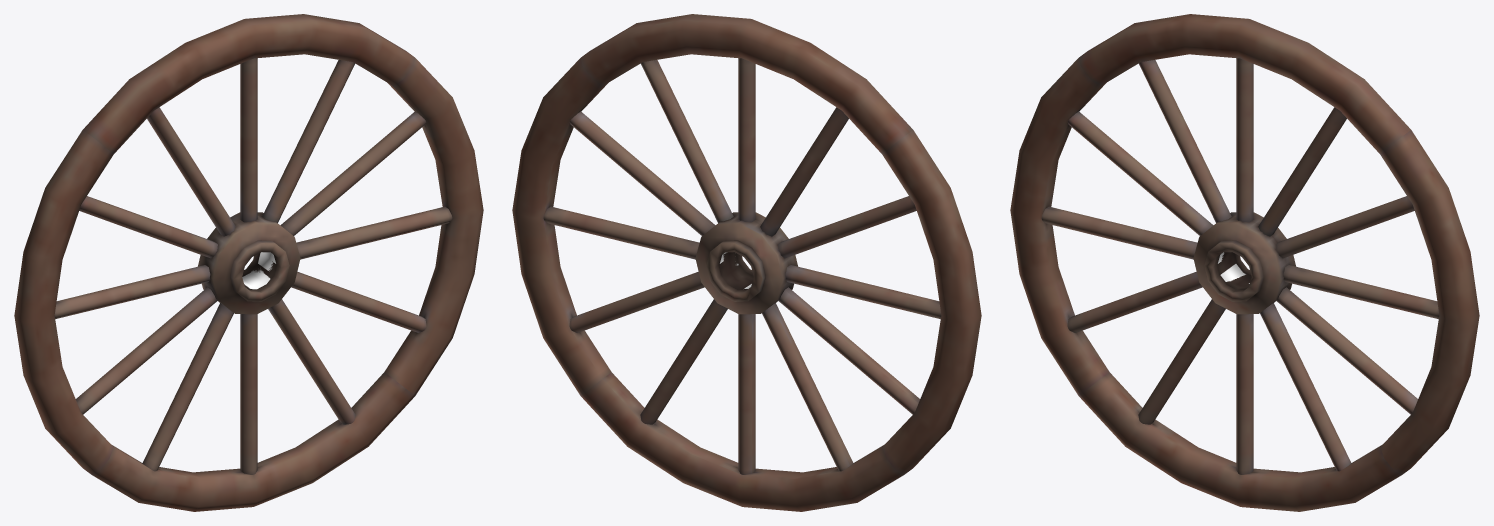
File: objects_un_wheel01.gltf
The picture shows the model from 3 angles, left to right: view 1: azimuth 30°, elevation 25°; view 2: azimuth 150°, elevation 25°; view 3: azimuth 330°, elevation 25°; orthographic projection.
Visible parts, largest first — view 1: um_objects_un_wheel01_model_objects_un_wheel01_modelShape:ob (×2); view 2: um_objects_un_wheel01_model_objects_un_wheel01_modelShape:ob; view 3: um_objects_un_wheel01_model_objects_un_wheel01_modelShape:ob.
Boxes of the visible parts, x1,y1,x2,y2 form: um_objects_un_wheel01_model_objects_un_wheel01_modelShape:ob (×2): (14, 14, 483, 511); um_objects_un_wheel01_model_objects_un_wheel01_modelShape:ob: (512, 14, 981, 511); um_objects_un_wheel01_model_objects_un_wheel01_modelShape:ob: (1010, 14, 1479, 511).
Bounding box in the file's own units: 1.87 × 1.87 × 0.1788.
Materials: 2 (1 with a texture image).
